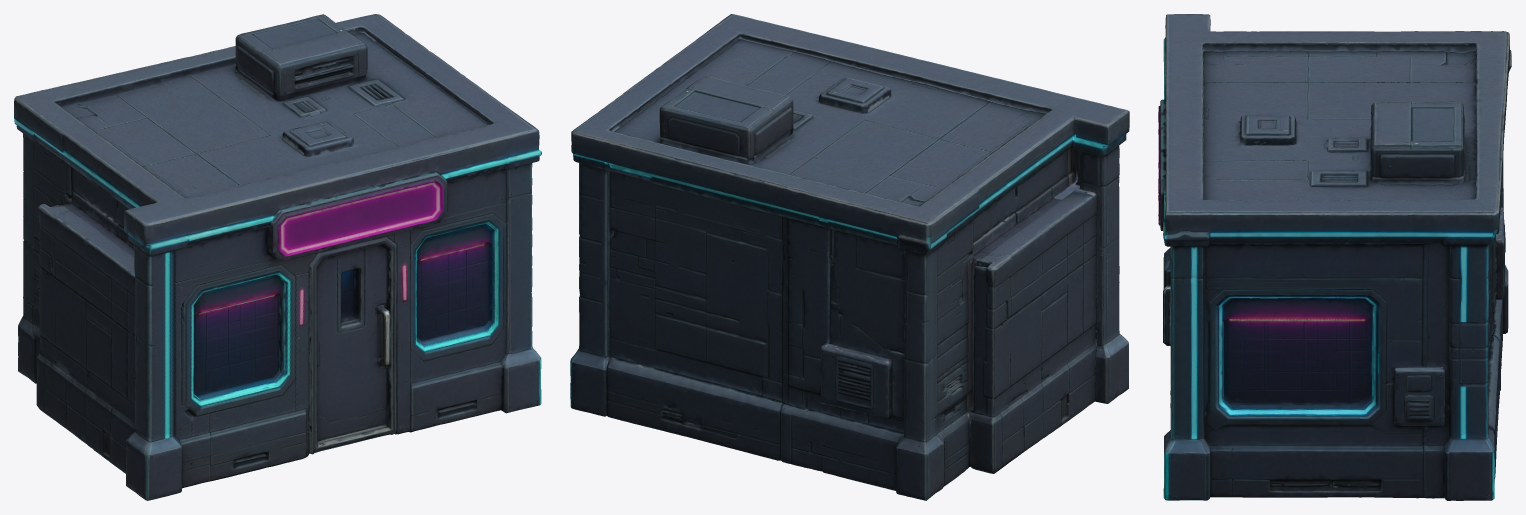
File: Building_Before.fbx
The picture shows the model from 3 angles, left to right: view 1: azimuth 30°, elevation 25°; view 2: azimuth 150°, elevation 25°; view 3: azimuth 270°, elevation 25°; orthographic projection. The views are drawn at different scales.
Visible parts, largest first — view 1: texture_mapping; view 2: texture_mapping; view 3: texture_mapping.
Boxes of the visible parts, x1,y1,x2,y2 form: texture_mapping: [14, 14, 541, 500]; texture_mapping: [570, 14, 1129, 500]; texture_mapping: [1158, 14, 1511, 500].
Bounding box in the file's own units: 1 × 0.7425 × 0.7439.
Materials: 1 (1 with a texture image).
